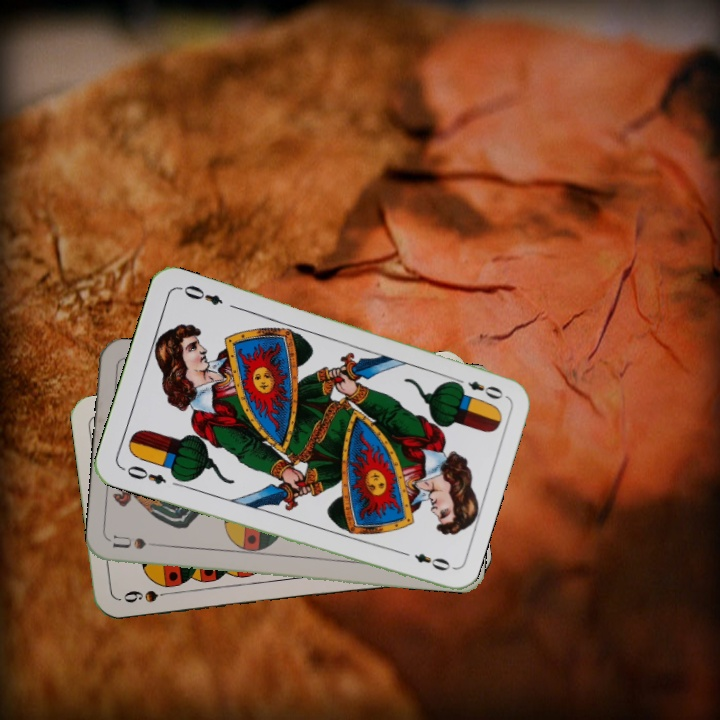EO: (450, 374, 506, 402), (118, 461, 169, 487)
S9: (119, 586, 177, 606)
SU: (110, 531, 169, 551)
